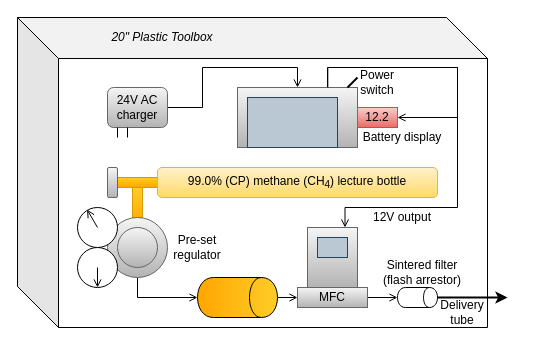
The diagram is 534 pixels wide and 345 high, and some of its shapes have lost their labels. The centre of each missing label's shape, as x and y in pixels:
7AH lead-acid battery: pixel 292 122
Flash arrestor: pixel 237 297
